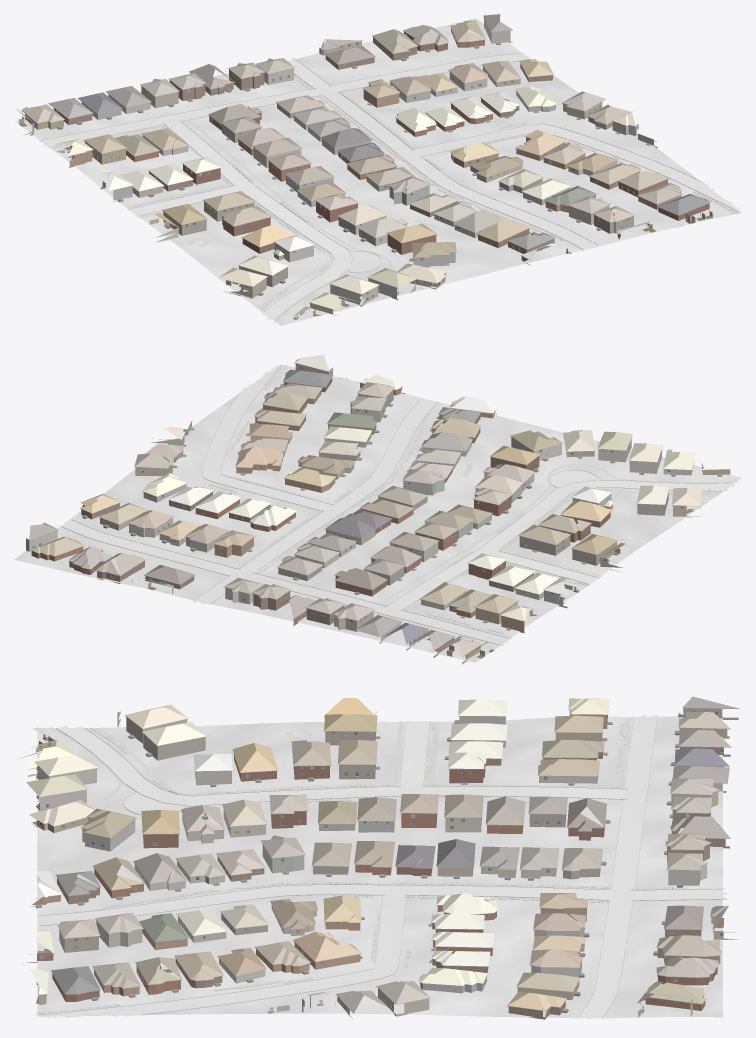
3 views of the same model, one above another, from view 1: azimuth 30°, elevation 25°; view 2: azimuth 150°, elevation 25°; view 3: azimuth 270°, elevation 25° (orthographic). The views are drawn at different scales.
Visible parts, largest first — view 1: roof, ground, concrete, wall, detail, walk, wall_stone, wall_stucco, curb, glass, room; view 2: roof, ground, concrete, wall, detail, walk, wall_stucco, wall_stone, curb, glass; view 3: ground, roof, concrete, wall, walk, detail, wall_stone, wall_stucco, curb, glass.
Part boxes in pixels (x1=…): roof: x1=16, y1=14, x2=710, y2=316; ground: x1=15, y1=18, x2=741, y2=325; concrete: x1=38, y1=53, x2=740, y2=320; wall: x1=22, y1=29, x2=709, y2=298; detail: x1=21, y1=18, x2=714, y2=319; walk: x1=53, y1=24, x2=738, y2=322; wall_stone: x1=108, y1=18, x2=617, y2=306; wall_stucco: x1=83, y1=82, x2=657, y2=315; curb: x1=41, y1=53, x2=738, y2=320; glass: x1=25, y1=26, x2=657, y2=300; room: x1=19, y1=48, x2=712, y2=316; roof: x1=29, y1=354, x2=730, y2=656; ground: x1=14, y1=364, x2=741, y2=662; concrete: x1=63, y1=366, x2=734, y2=645; wall: x1=31, y1=363, x2=730, y2=664; detail: x1=29, y1=363, x2=730, y2=657; walk: x1=23, y1=365, x2=739, y2=637; wall_stucco: x1=143, y1=401, x2=693, y2=650; wall_stone: x1=26, y1=429, x2=709, y2=643; curb: x1=58, y1=365, x2=733, y2=645; glass: x1=32, y1=367, x2=670, y2=657; ground: x1=37, y1=715, x2=722, y2=1018; roof: x1=26, y1=696, x2=738, y2=1013; concrete: x1=37, y1=714, x2=728, y2=1018; wall: x1=19, y1=708, x2=738, y2=1019; walk: x1=36, y1=718, x2=700, y2=1016; detail: x1=26, y1=706, x2=739, y2=1017; wall_stone: x1=36, y1=711, x2=726, y2=1016; wall_stucco: x1=28, y1=711, x2=724, y2=1012; curb: x1=36, y1=715, x2=725, y2=1019; glass: x1=37, y1=711, x2=723, y2=1007.
Size of the model in its own units: 266 by 14.05 by 265.
